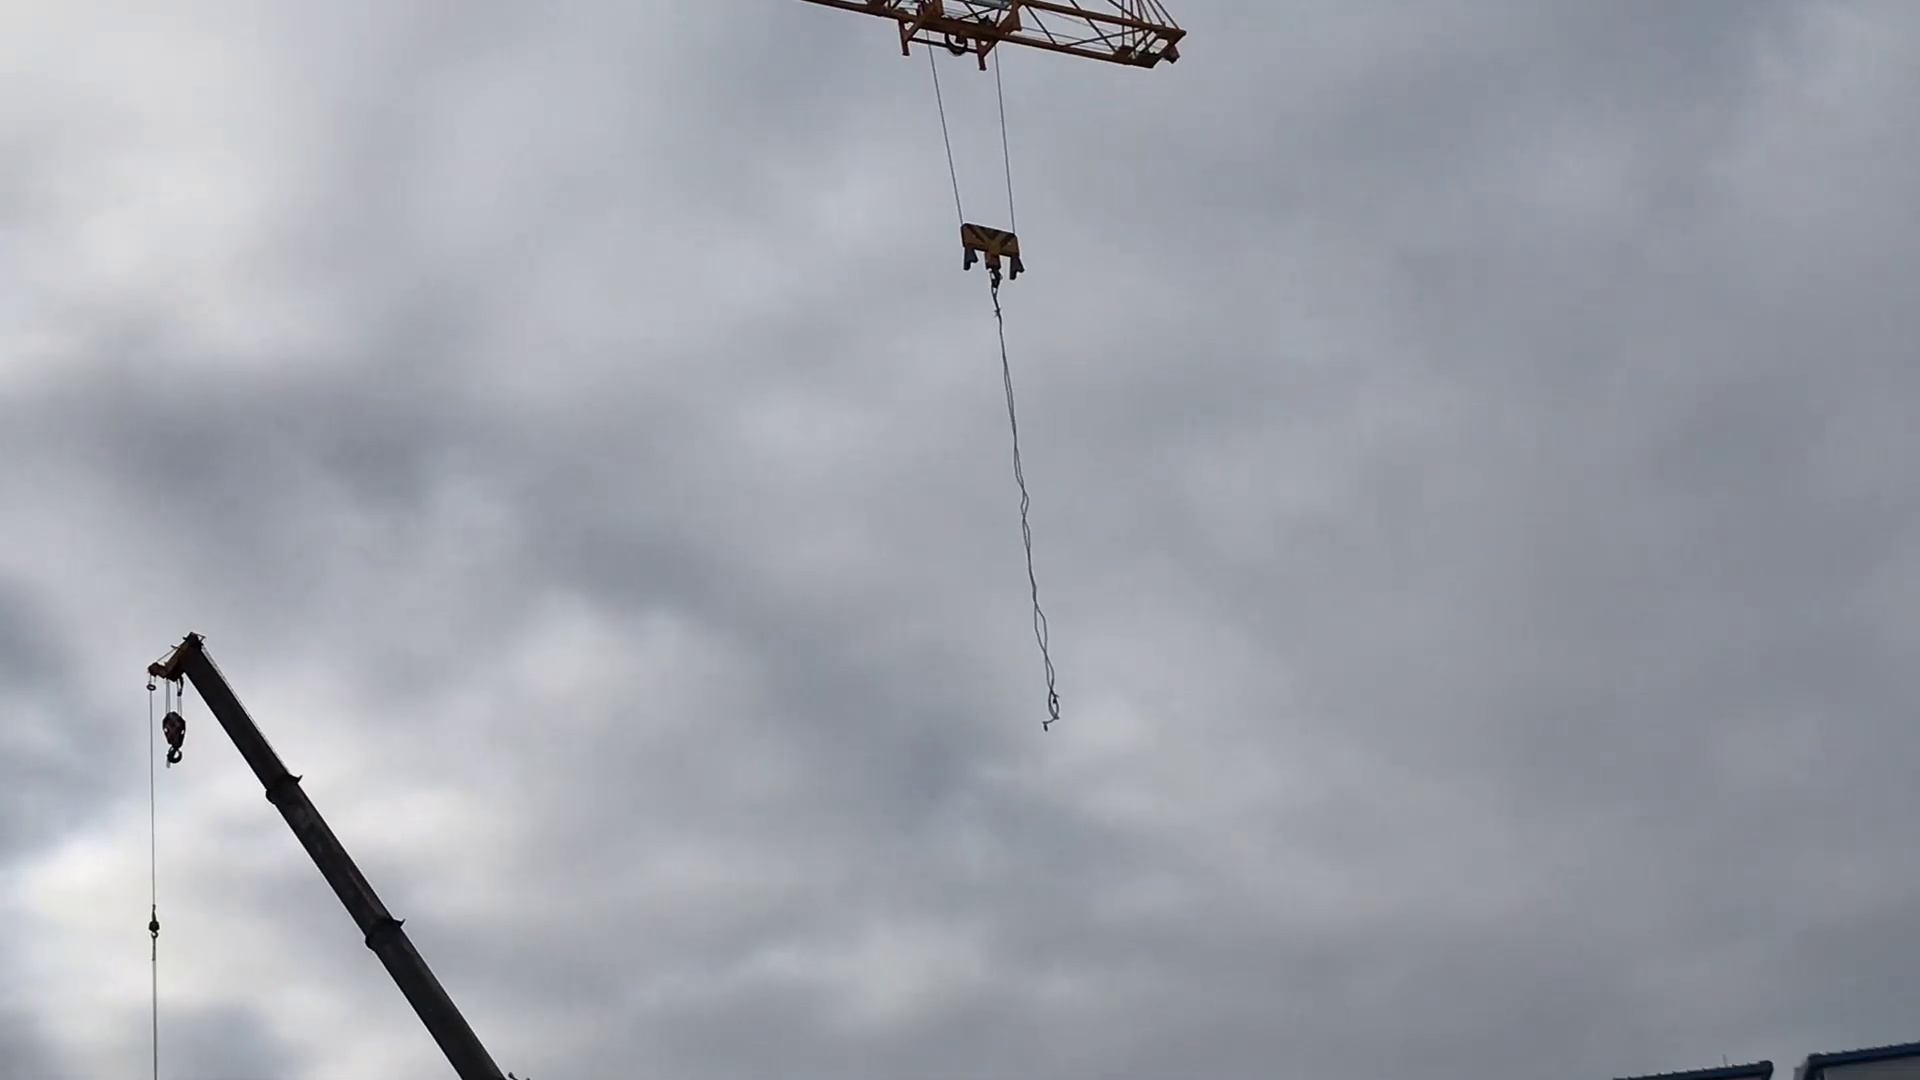hook: (949, 215, 1038, 299), (146, 696, 196, 793)
